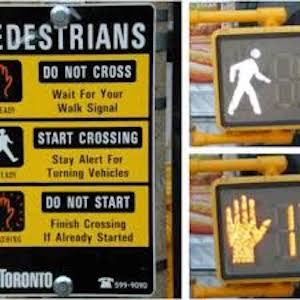green: (217, 46, 266, 122)
